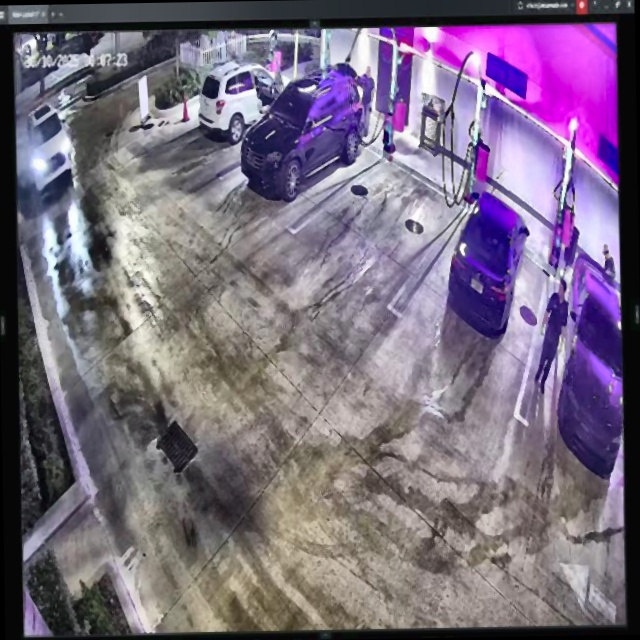Car: (240, 67, 366, 199), (446, 190, 531, 338)
